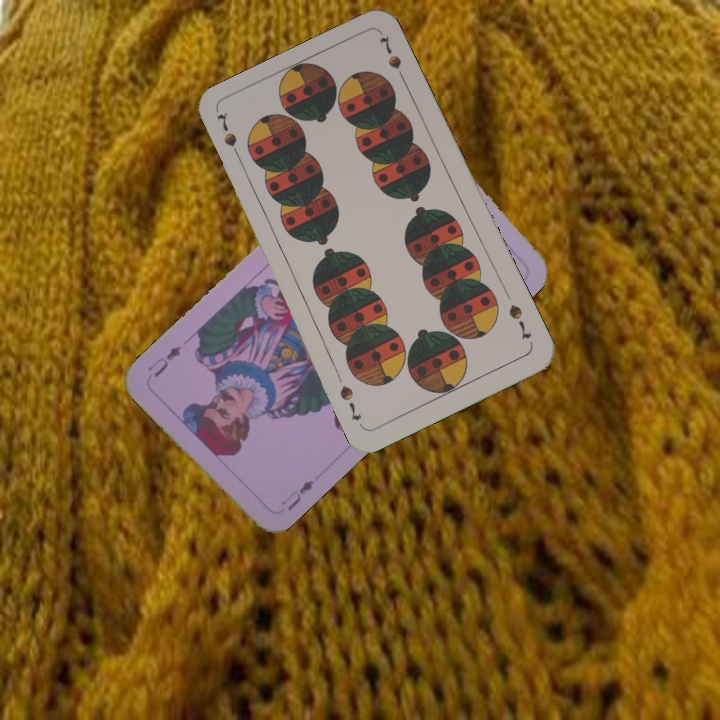EU: (282, 476, 317, 514)
S7: (504, 300, 534, 342), (219, 128, 245, 166)
